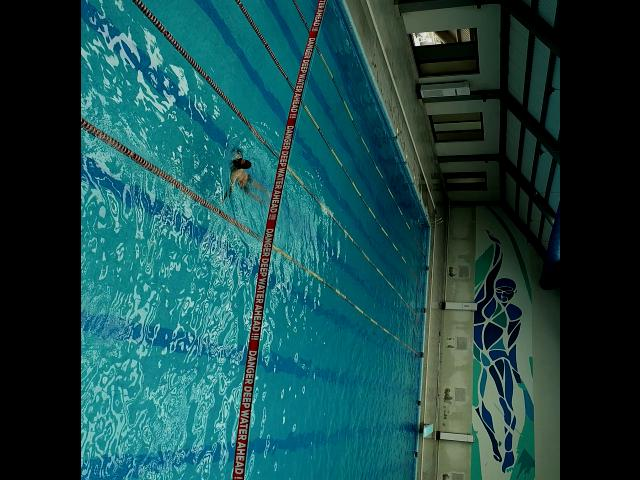swimming: (225, 144, 267, 204)
